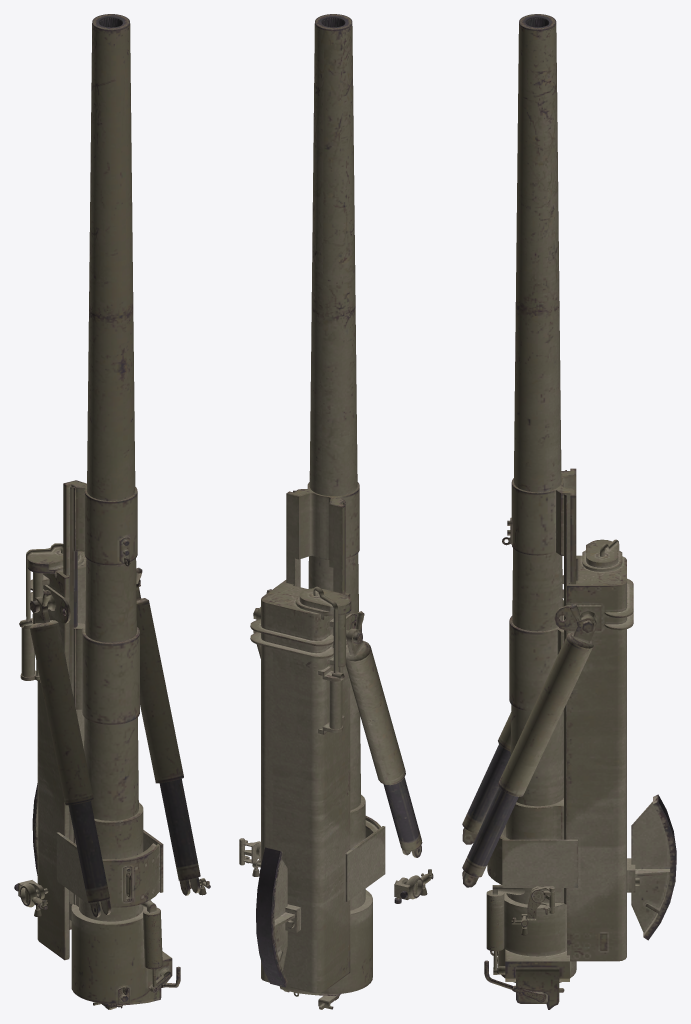
The model's file is Gun_01.glb.
3 renders of one model, left to right at view 1: azimuth 30°, elevation 25°; view 2: azimuth 150°, elevation 25°; view 3: azimuth 270°, elevation 25°, orthographic.
Visible parts, largest first — view 1: set_0_group_0; view 2: set_0_group_0; view 3: set_0_group_0.
Part boxes in pixels (<box>): set_0_group_0: <box>14,14,210,1009</box>; set_0_group_0: <box>239,14,433,1009</box>; set_0_group_0: <box>462,14,676,1009</box>.
Size of the model in its own units: 1.33 by 7.14 by 1.43.
1 material, 1 textured.
